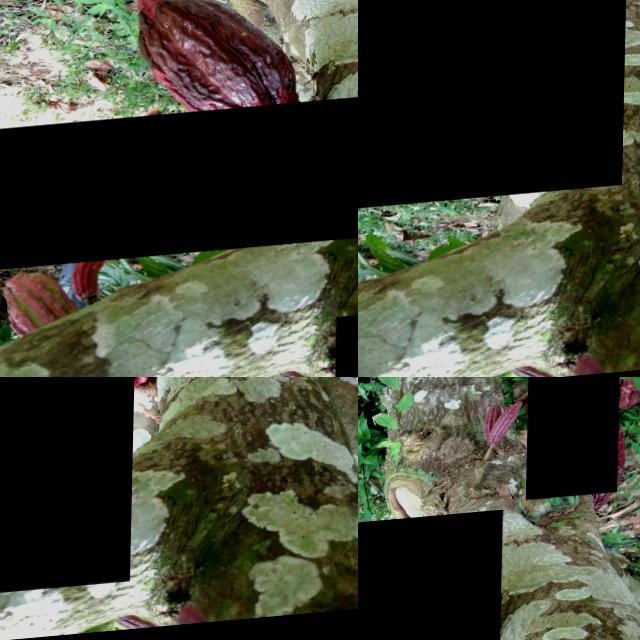Fitoftora: (358, 0, 629, 216), (358, 517, 503, 640)
Monilia: (0, 97, 358, 277), (0, 377, 138, 604)
Sana: (527, 377, 620, 508), (486, 417, 516, 449)
